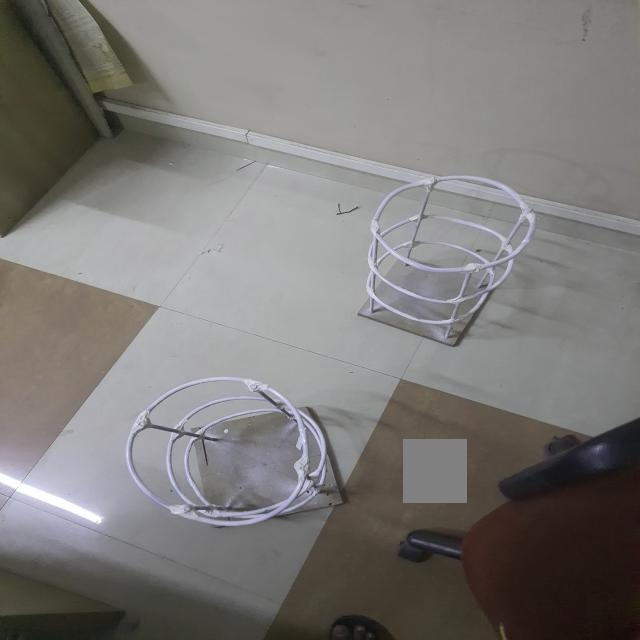silo: (96, 368, 353, 526), (360, 172, 542, 354)
